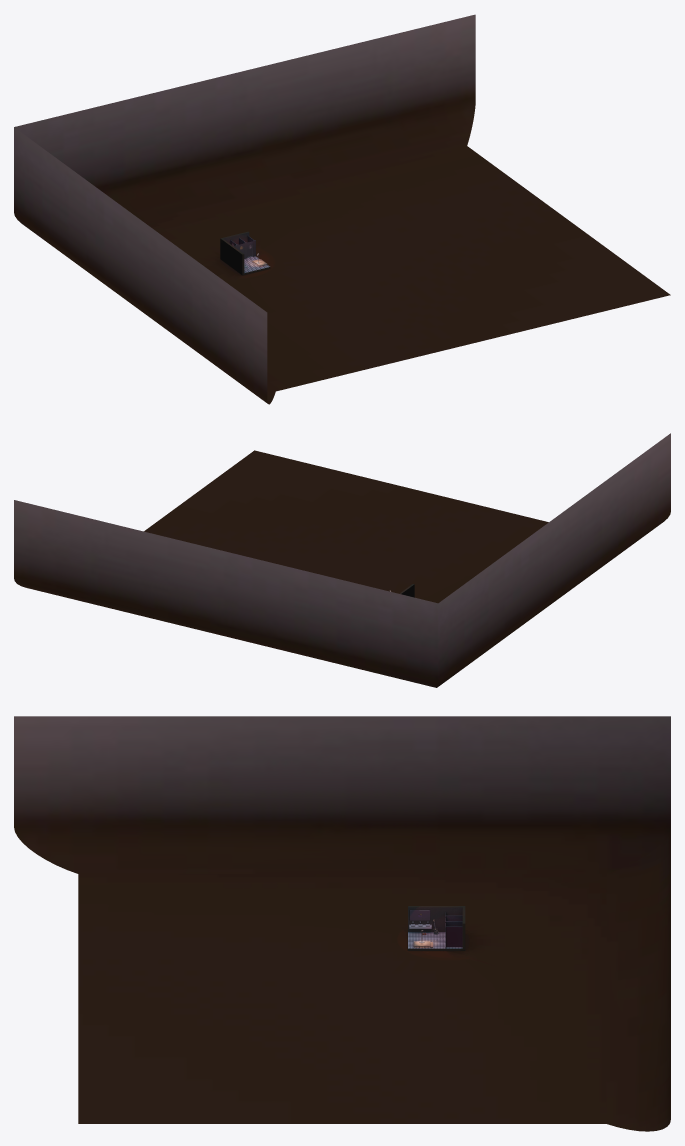
Rendered from f-toilet.glb.
3 views of the same model, one above another, from view 1: azimuth 30°, elevation 25°; view 2: azimuth 150°, elevation 25°; view 3: azimuth 270°, elevation 25° (orthographic). The views are drawn at different scales.
Visible parts, largest first — view 1: FT-Set3; view 2: FT-Set3; view 3: FT-Set3, FT-Set1.
Boxes of the visible parts, x1,y1,x2,y2 form: FT-Set3: [14, 14, 670, 404]; FT-Set3: [14, 433, 670, 687]; FT-Set3: [14, 716, 670, 1131]; FT-Set1: [409, 912, 462, 948].
Bounding box in the file's own units: 97.21 × 21.18 × 92.35.
Materials: 4 (4 with a texture image).
